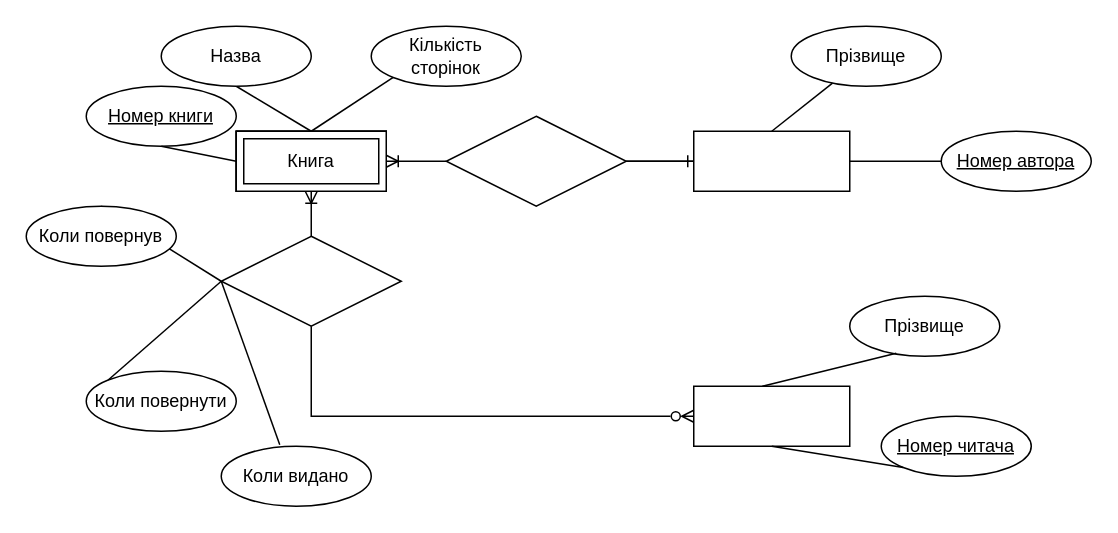
This 1118x533 diagram has some shape labels left out. Here are the shapes that lost their labels. From the top down, the box of each, then its label:
(445, 115, 626, 206): написав
(692, 130, 850, 191): Автор
(220, 235, 401, 326): видано
(692, 385, 850, 446): Читач
